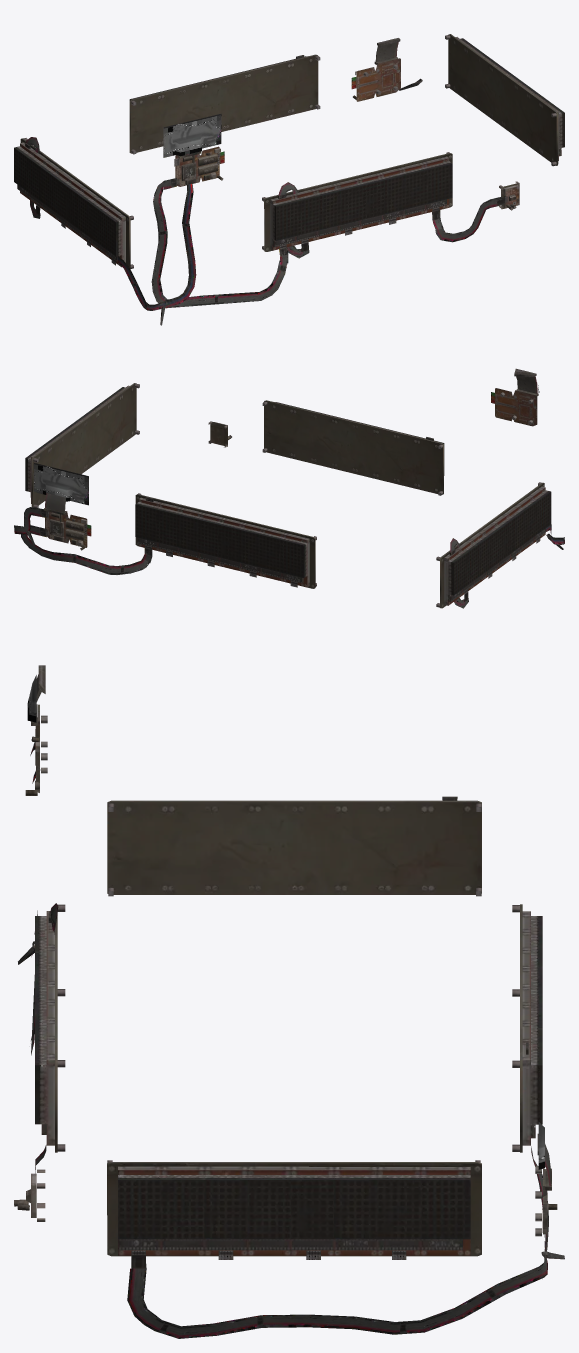
Rendered from matrix_display_sulfur.glb.
3 views of the same model, one above another, from view 1: azimuth 30°, elevation 25°; view 2: azimuth 150°, elevation 25°; view 3: azimuth 270°, elevation 25° (orthographic). The views are drawn at different scales.
Parts seen in each view (by area): view 1: matrix_display_sulfur; view 2: matrix_display_sulfur; view 3: matrix_display_sulfur.
Boxes of the visible parts, bbox=[...] form: matrix_display_sulfur: bbox=[14, 34, 564, 325]; matrix_display_sulfur: bbox=[14, 368, 564, 608]; matrix_display_sulfur: bbox=[14, 665, 564, 1338].
Bounding box in the file's own units: 1.81 × 0.7792 × 1.11.
Materials: 1 (1 with a texture image).
